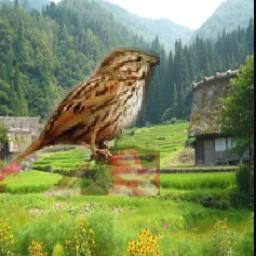Sparrow: (0, 44, 160, 197)
